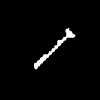half_double_crochet: (34, 28, 74, 68)
